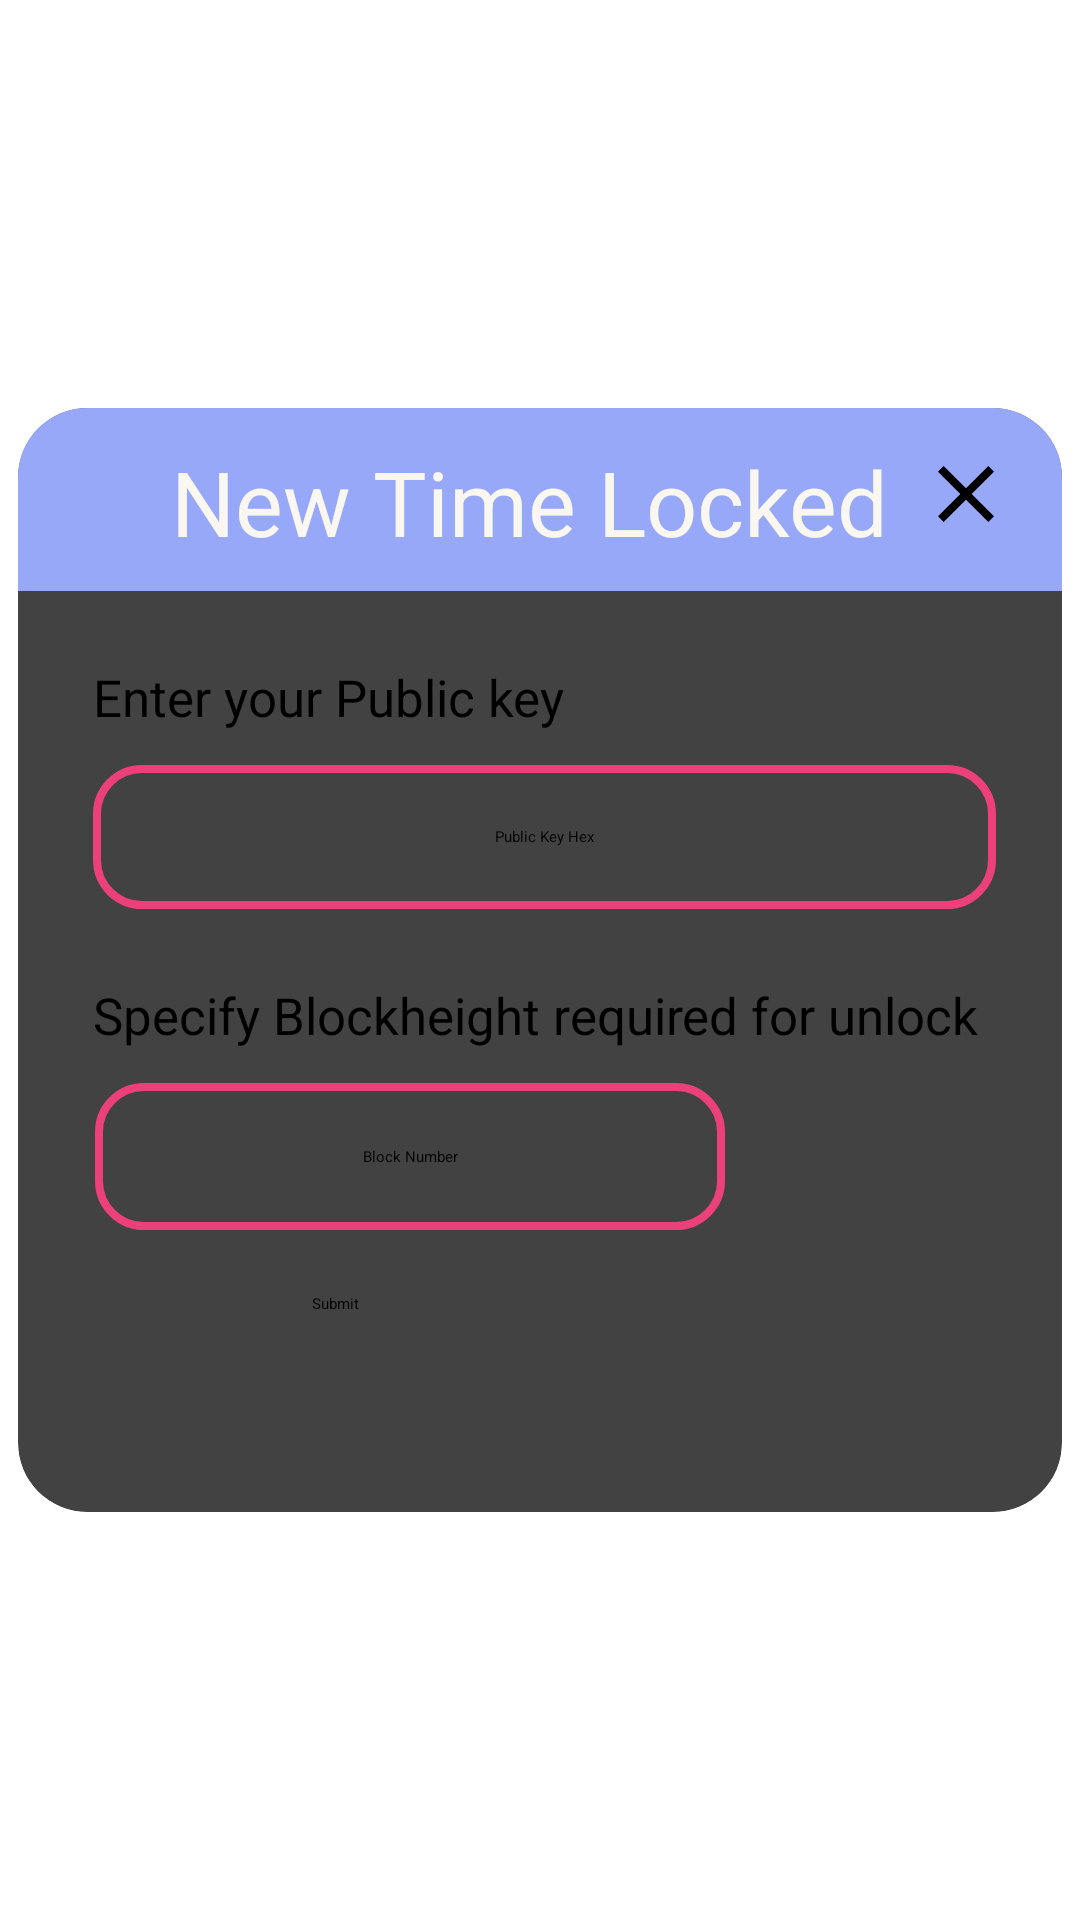

Point at icon controls on the screen. Image size 1080 x 1920, points as [x,y].
close: [966,494]
